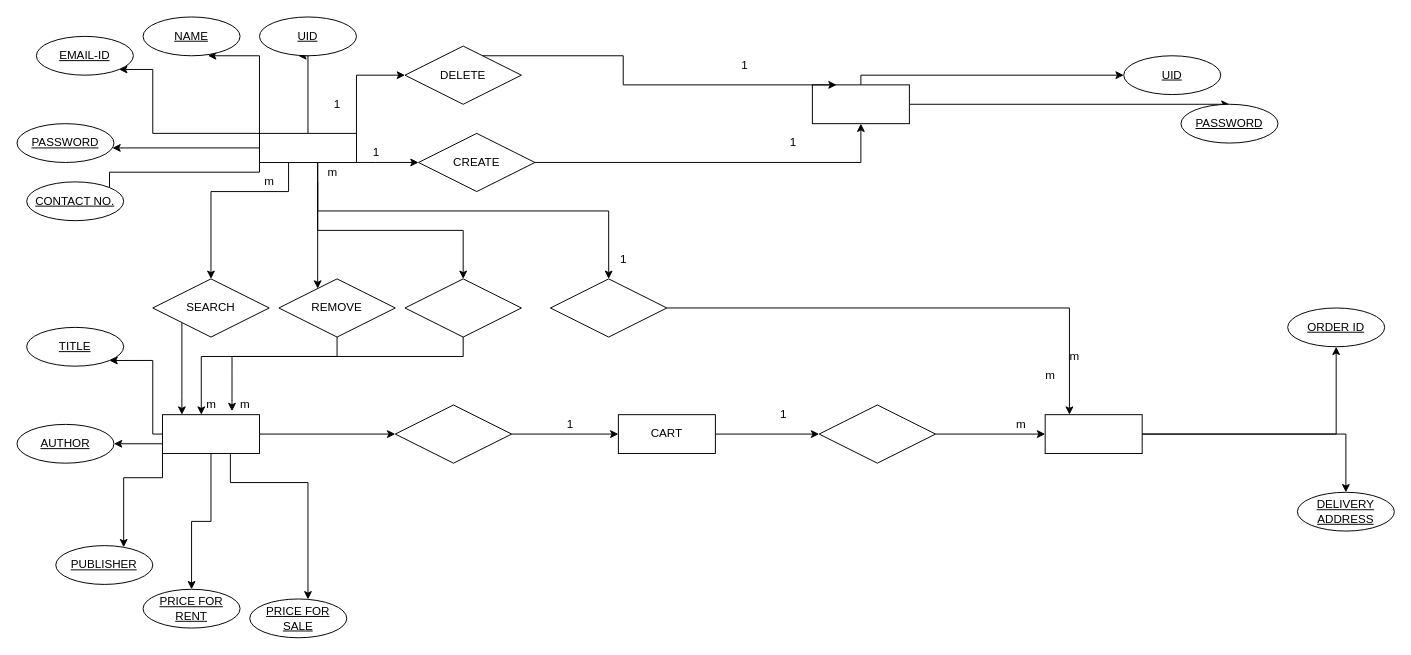
This 1411x655 diagram has some shape labels left out. The shapes that lost their labels are listed below. From the top down, each one's box as (x1, y1, x2, y2) in pixels, then its label:
(811, 84, 909, 124): ACCOUNT
(259, 132, 356, 162): USER
(404, 278, 521, 337): ADD
(550, 278, 667, 337): VIEW
(162, 414, 259, 453): BOOK
(394, 404, 512, 463): ADD TO
(818, 404, 936, 463): ALLOWED TO
(1044, 414, 1142, 453): ORDER
